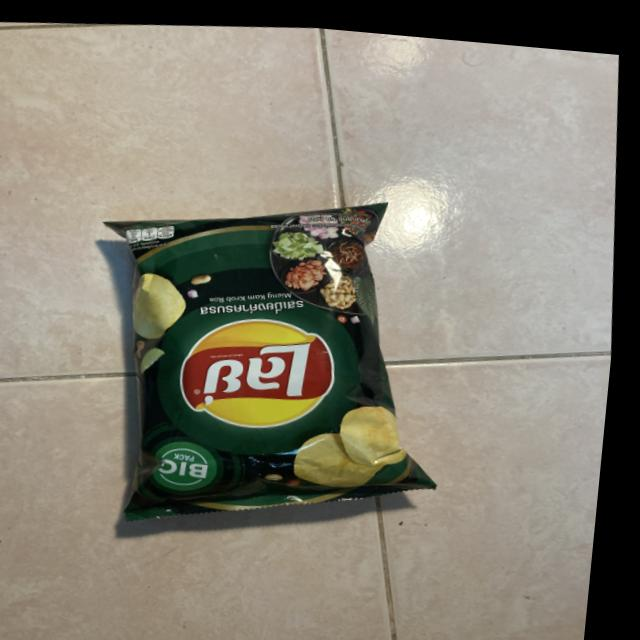Laygreen: (64, 149, 437, 588)
